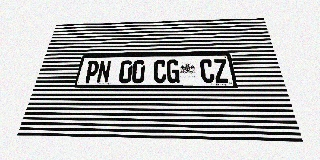0: (118, 60, 133, 83), (131, 60, 145, 83)
C: (199, 59, 215, 83), (153, 60, 166, 83)
G: (167, 59, 180, 83)
N: (96, 60, 112, 83)
P: (83, 61, 100, 83)
Z: (213, 59, 229, 83)
